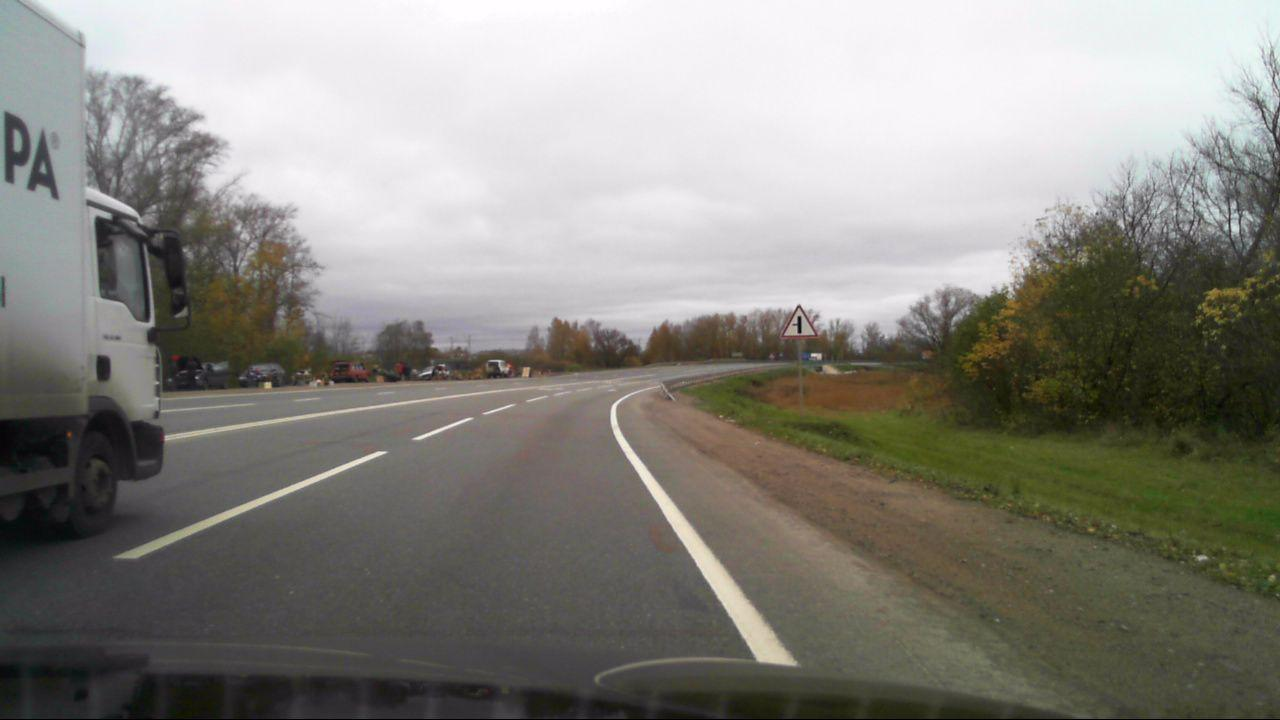2_3_3: (778, 304, 817, 339)
